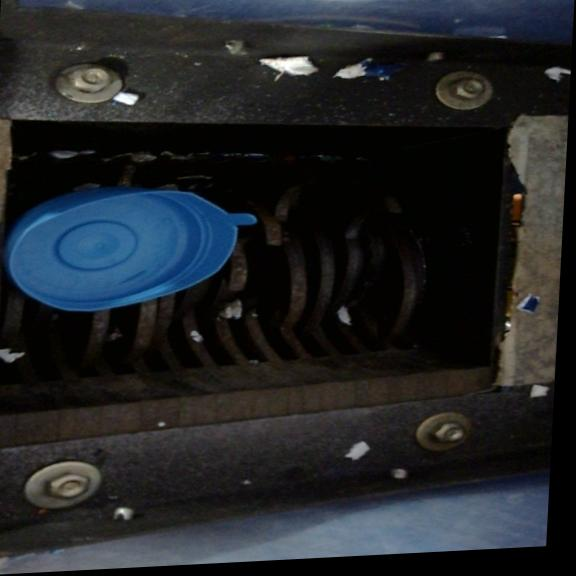Plastik: (0, 169, 264, 325)
